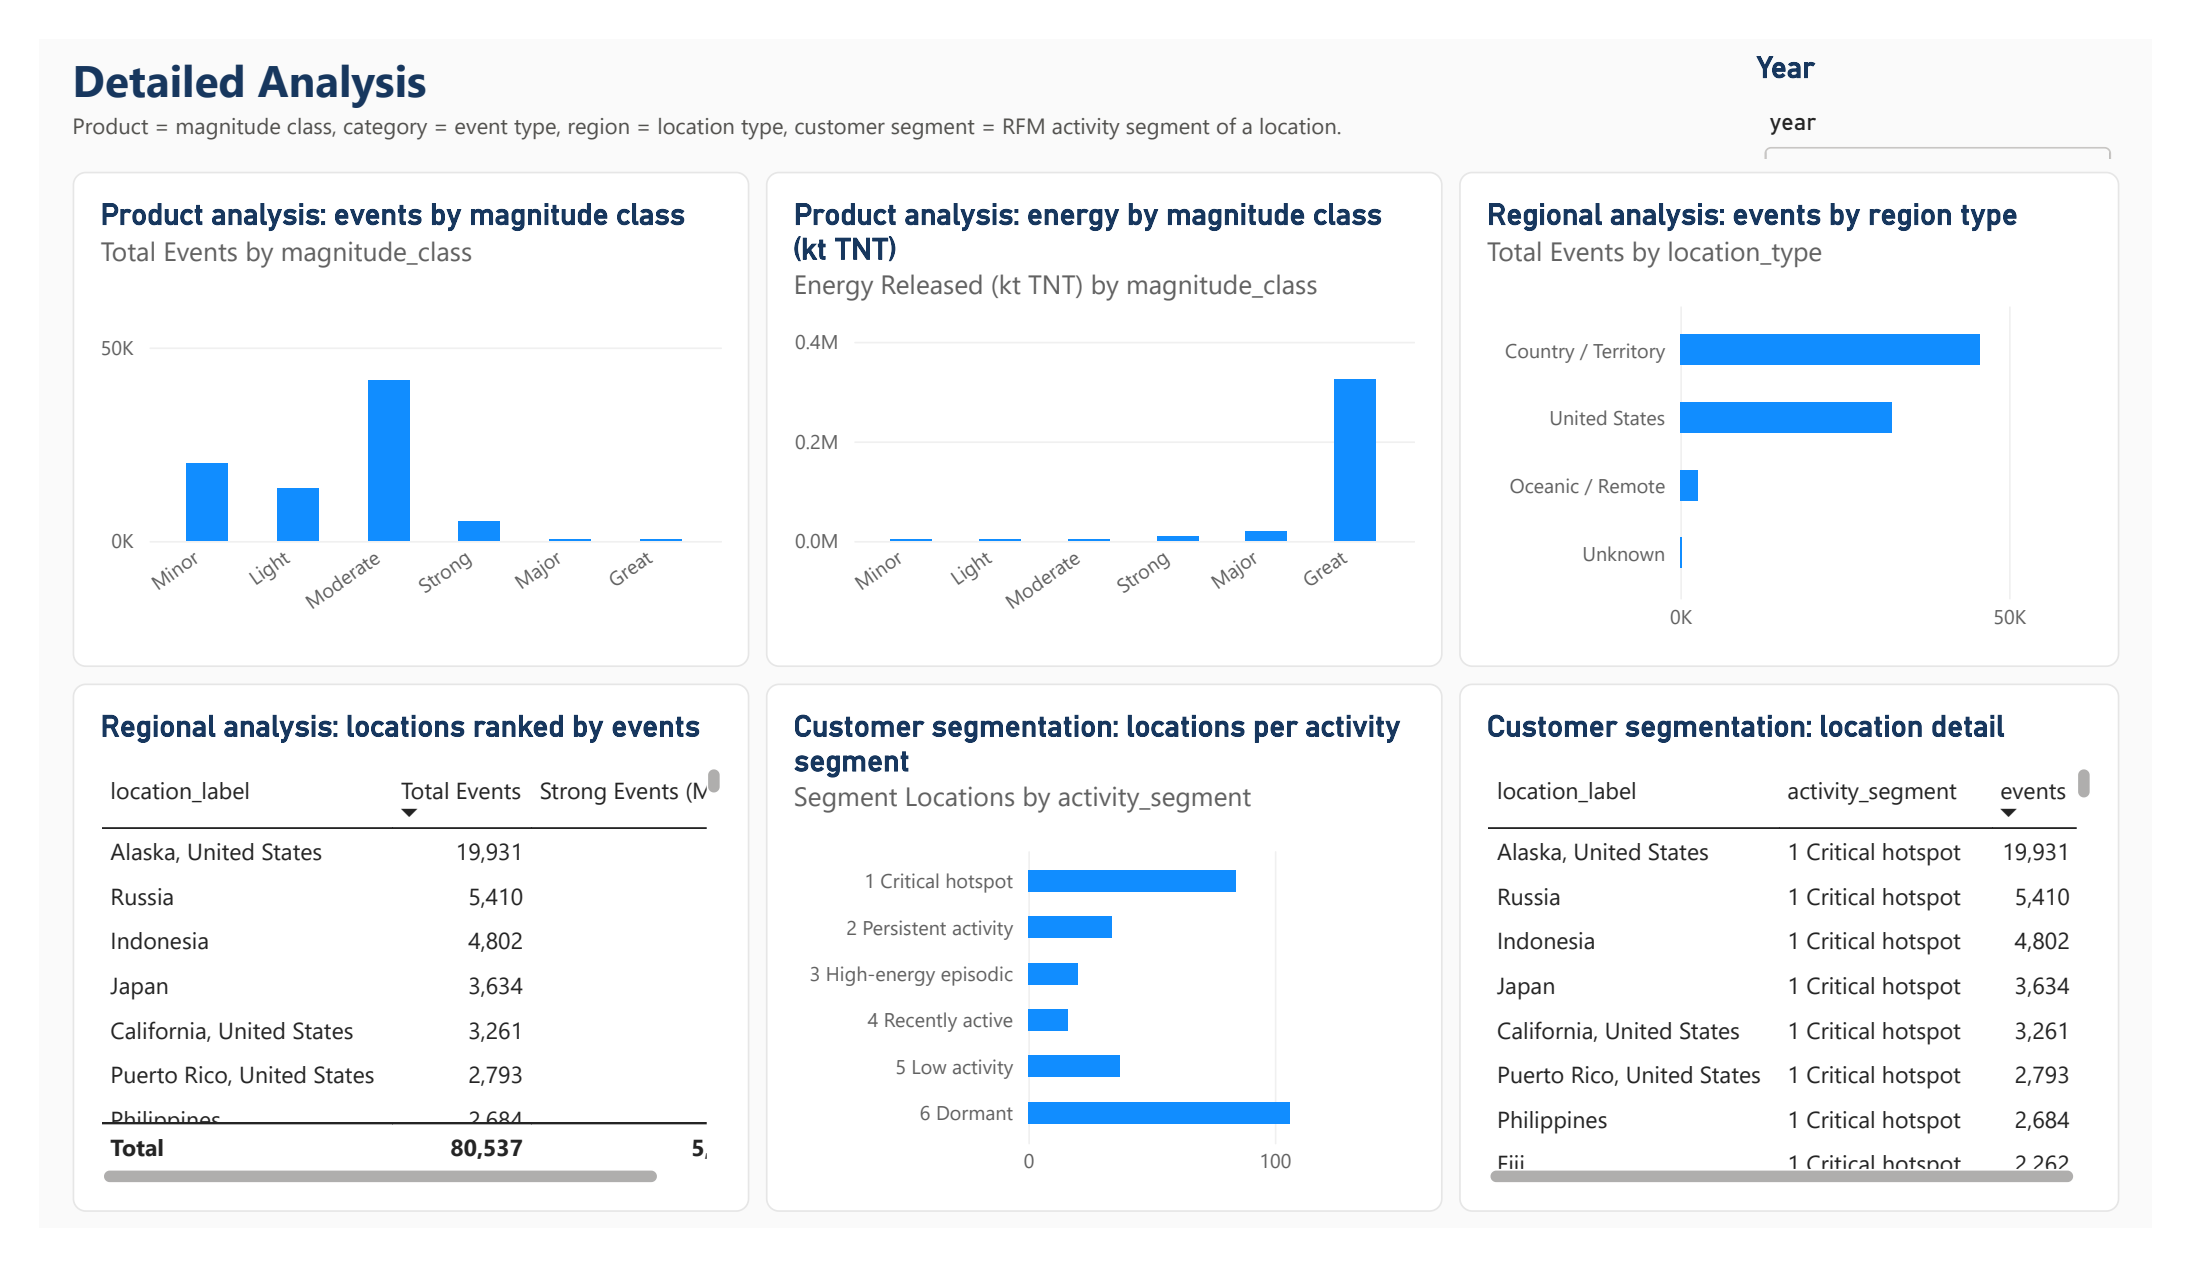

What the dashboard file says about the page in this screenshot:
{"tool":"powerbi","page":{"name":"Detailed Analysis","canvas":[1280,720],"ordinal":1},"visuals":[{"type":"textbox","box":[20,6,1000,66],"z":1000},{"type":"slicer","title":"Year","fields":{"Values":["dim_date.year"]},"box":[1040,6,220,66],"z":2000},{"type":"clusteredColumnChart","title":"Product analysis: events by magnitude class","fields":{"Category":["dim_magnitude_class.magnitude_class"],"Y":["fact_seismic_event.Total Events"]},"box":[20,80,410,300],"z":3000},{"type":"clusteredColumnChart","title":"Product analysis: energy by magnitude class (kt TNT)","fields":{"Category":["dim_magnitude_class.magnitude_class"],"Y":["fact_seismic_event.Energy Released (kt TNT)"]},"box":[440,80,410,300],"z":4000},{"type":"clusteredBarChart","title":"Regional analysis: events by region type","fields":{"Category":["dim_location.location_type"],"Y":["fact_seismic_event.Total Events"]},"box":[860,80,400,300],"z":5000},{"type":"tableEx","title":"Regional analysis: locations ranked by events","fields":{"Values":["dim_location.location_label","fact_seismic_event.Total Events","fact_seismic_event.Strong Events (M5+)"]},"box":[20,390,410,320],"z":6000},{"type":"clusteredBarChart","title":"Customer segmentation: locations per activity segment","fields":{"Category":["vw_customer_analysis.activity_segment"],"Y":["vw_customer_analysis.Segment Locations"]},"box":[440,390,410,320],"z":7000},{"type":"tableEx","title":"Customer segmentation: location detail","fields":{"Values":["vw_customer_analysis.location_label","vw_customer_analysis.activity_segment","vw_customer_analysis.events"]},"box":[860,390,400,320],"z":8000}]}

Visuals, with their boxes in screenshot pixels (x1, y1, x2, y2), scaled from the page's 1280x720 canvas onto the 2192x1268 screenshot:
textbox: region(34, 11, 1747, 127)
"Year" slicer: region(1781, 11, 2158, 127)
"Product analysis: events by magnitude class" clusteredColumnChart: region(34, 141, 736, 669)
"Product analysis: energy by magnitude class (kt TNT)" clusteredColumnChart: region(754, 141, 1456, 669)
"Regional analysis: events by region type" clusteredBarChart: region(1473, 141, 2158, 669)
"Regional analysis: locations ranked by events" tableEx: region(34, 687, 736, 1250)
"Customer segmentation: locations per activity segment" clusteredBarChart: region(754, 687, 1456, 1250)
"Customer segmentation: location detail" tableEx: region(1473, 687, 2158, 1250)
